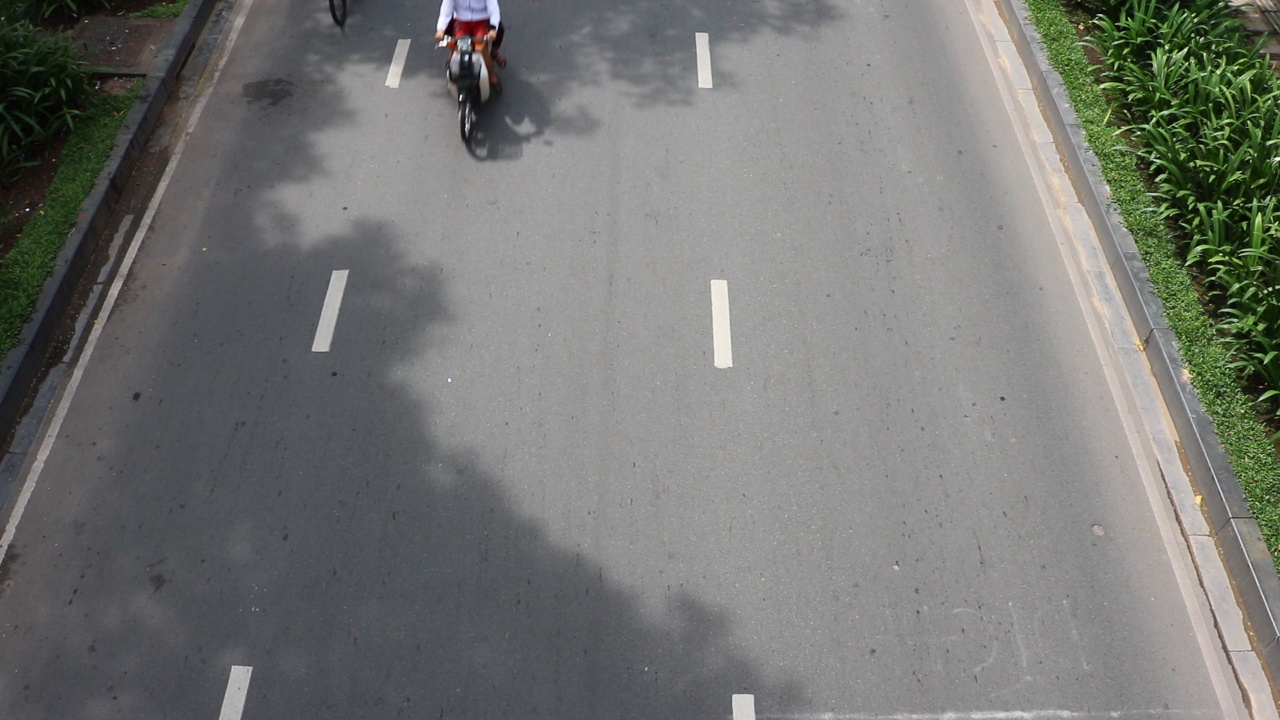motorcycle: (439, 34, 495, 148)
